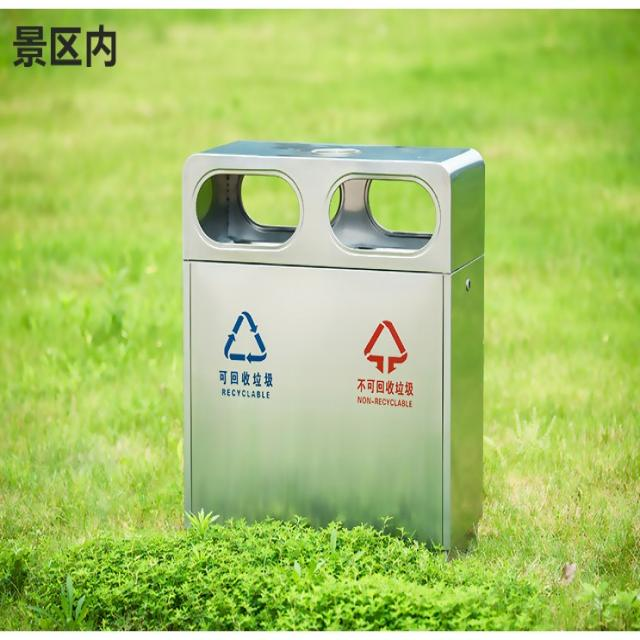ash bin: (176, 139, 490, 556)
